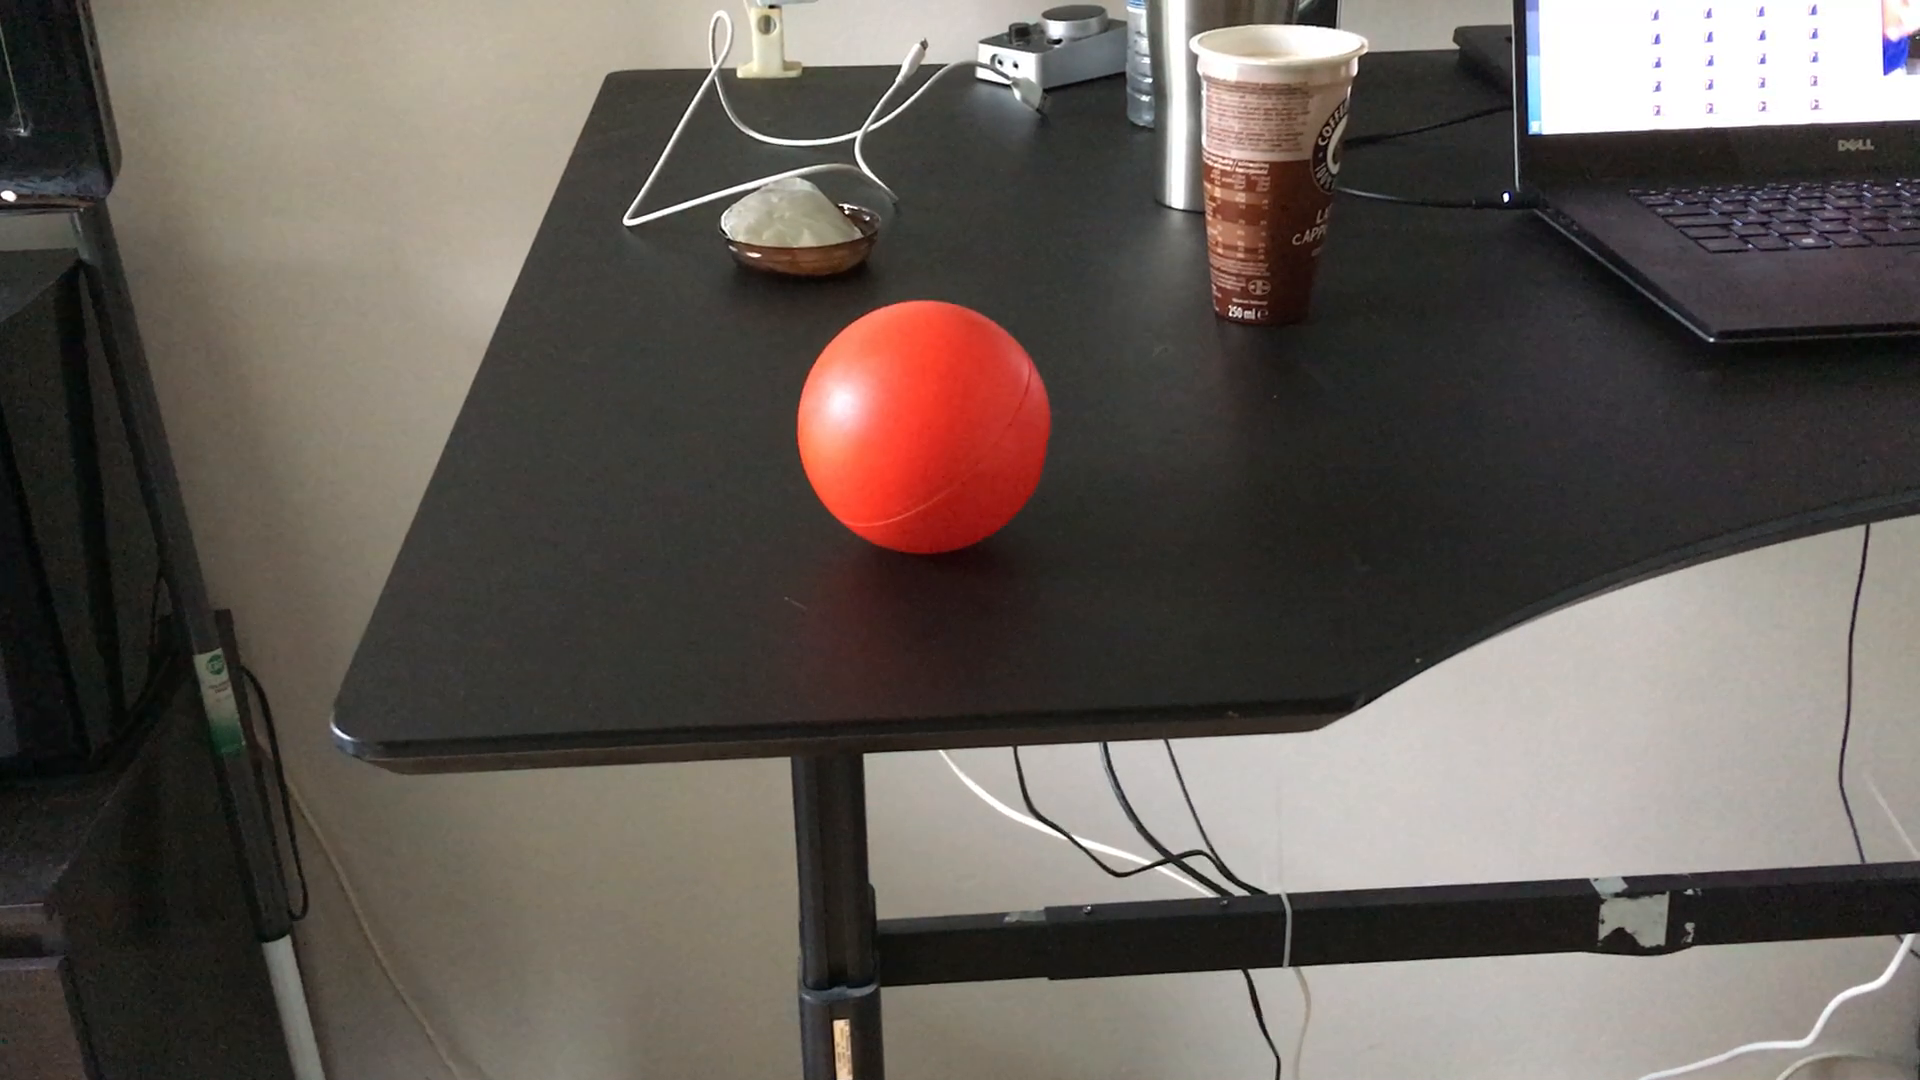Ball: (793, 301, 1052, 556)
